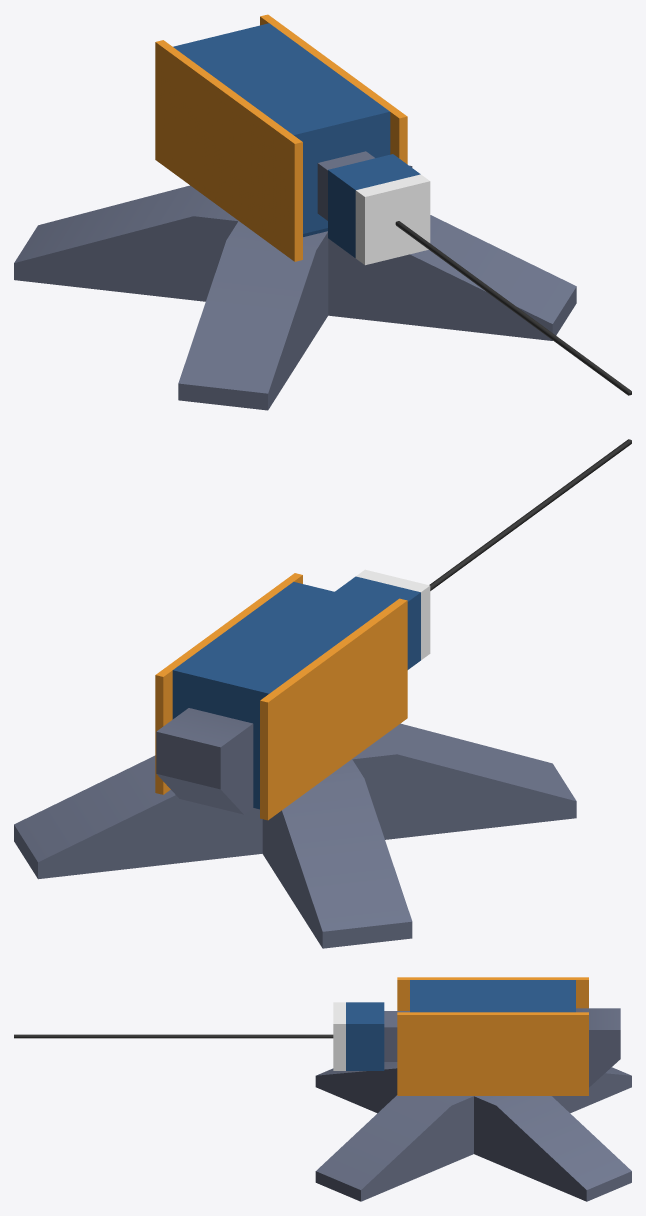
Rendered from Turret.fbx.
The picture shows the model from 3 angles, top to bottom: view 1: azimuth 30°, elevation 25°; view 2: azimuth 150°, elevation 25°; view 3: azimuth 270°, elevation 25°; orthographic projection. The views are drawn at different scales.
Parts seen in each view (by area): view 1: Base, Body, Pointer, Laser_Pointer; view 2: Base, Body, Pointer, Laser_Pointer; view 3: Base, Body, Pointer, Laser_Pointer.
Boxes of the visible parts, box(x1,y1,x2,y2) form: Base: box(14, 165, 576, 410); Body: box(155, 14, 407, 261); Pointer: box(317, 151, 430, 265); Laser_Pointer: box(395, 221, 631, 395); Base: box(14, 723, 576, 948); Body: box(155, 573, 407, 820); Pointer: box(335, 569, 430, 669); Laser_Pointer: box(429, 439, 631, 590); Base: box(315, 1062, 631, 1201); Body: box(397, 977, 620, 1095); Pointer: box(333, 1002, 409, 1070); Laser_Pointer: box(14, 1034, 333, 1038).
Size of the model in its own units: 0.99 by 1.93 by 0.48.
